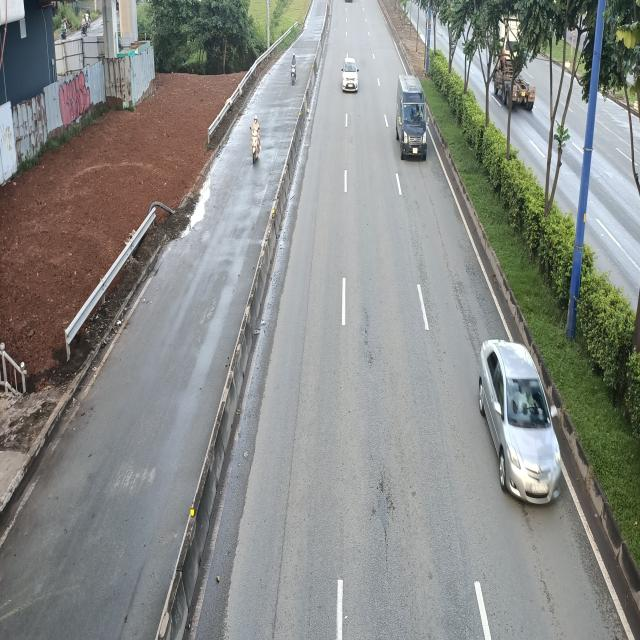car: (480, 339, 564, 505), (342, 57, 360, 93)
van: (398, 74, 431, 160)
